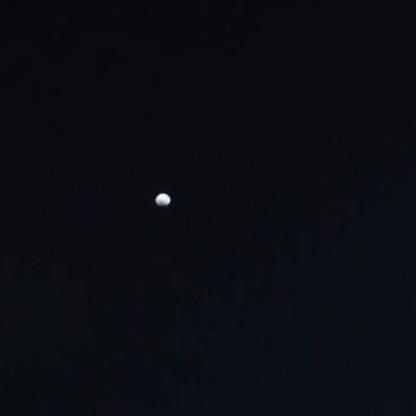ball: (144, 187, 178, 208)
